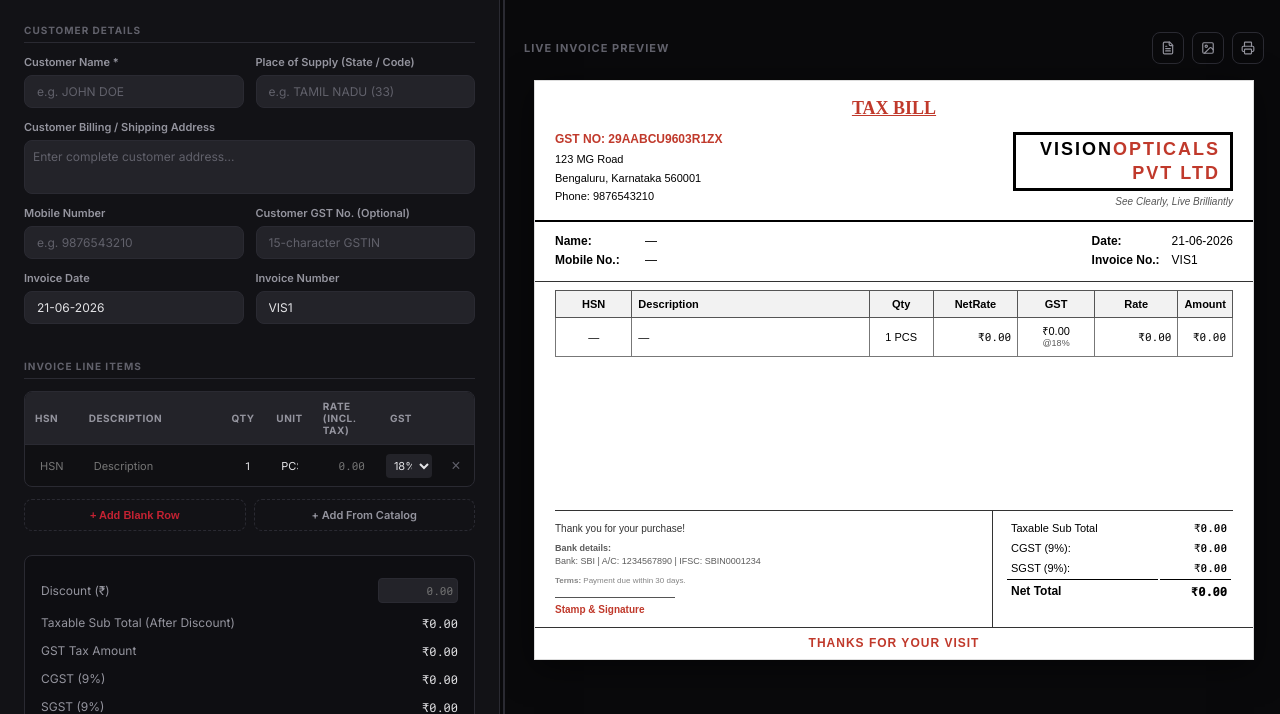
Test case: InvoiceEditor — Live Totals & Form › C8: "Add blank row" button increases line item count
What coordinates should you click on to do the following:
click the button "+ Add Blank Row"
I would click on:
 (135, 515)
Its box is 24,499 -> 246,531.
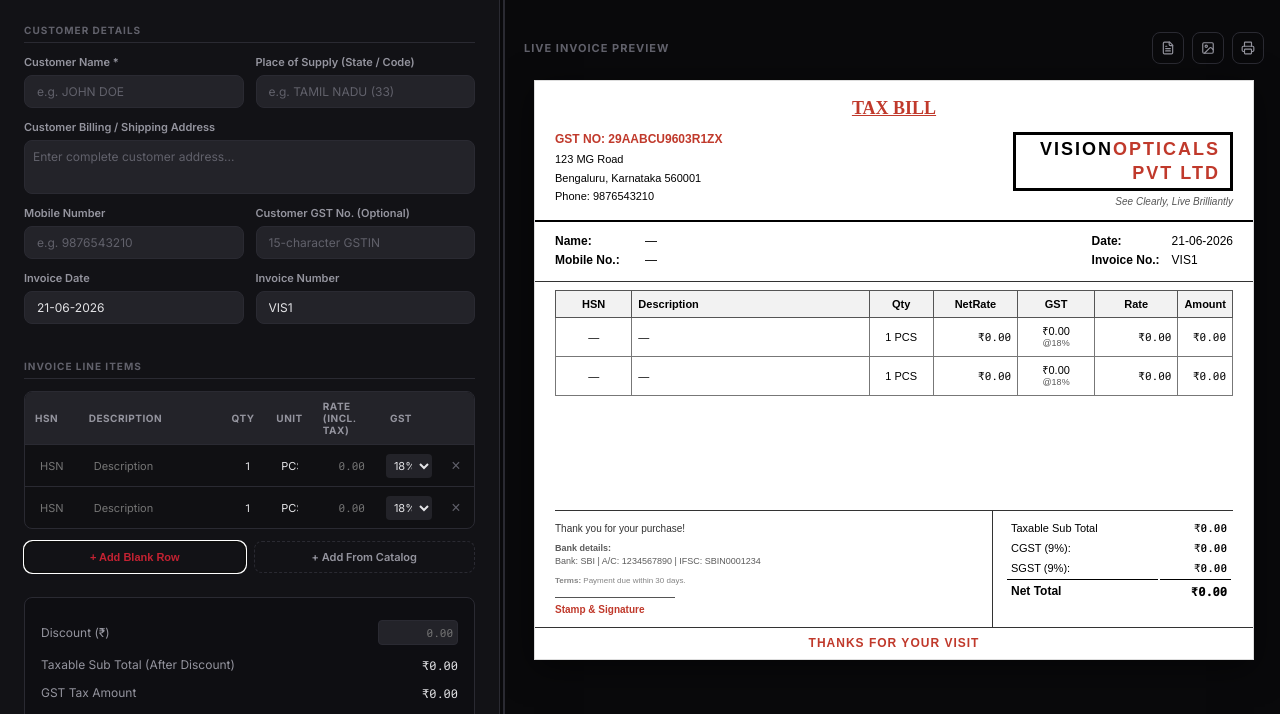
Check: the number of fields with placeholder "Description" is 2, box 85,452 -> 216,480; 85,494 -> 216,522
